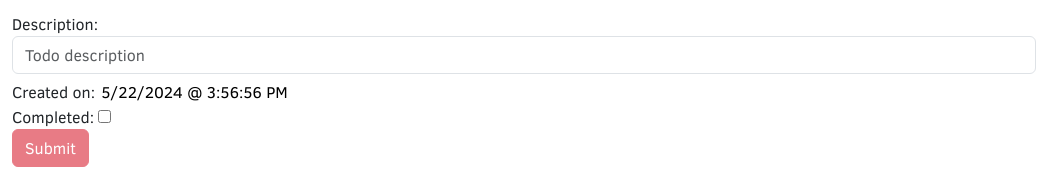
Test case: TodoForm test suite › Form manipulation tests › should enable the submit button when the todo description is populated
The image size is (1048, 184).
Expected: the button showing "submit" is disabled, [12,129,89,167]
Step 1. Type "Test description" into the field with placeholder "Todo description" → [524, 55], box [12,36,1036,74]
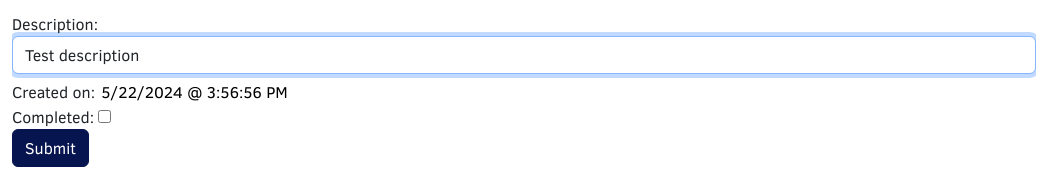
Now the button showing "submit" is enabled, box [12,129,89,167]
